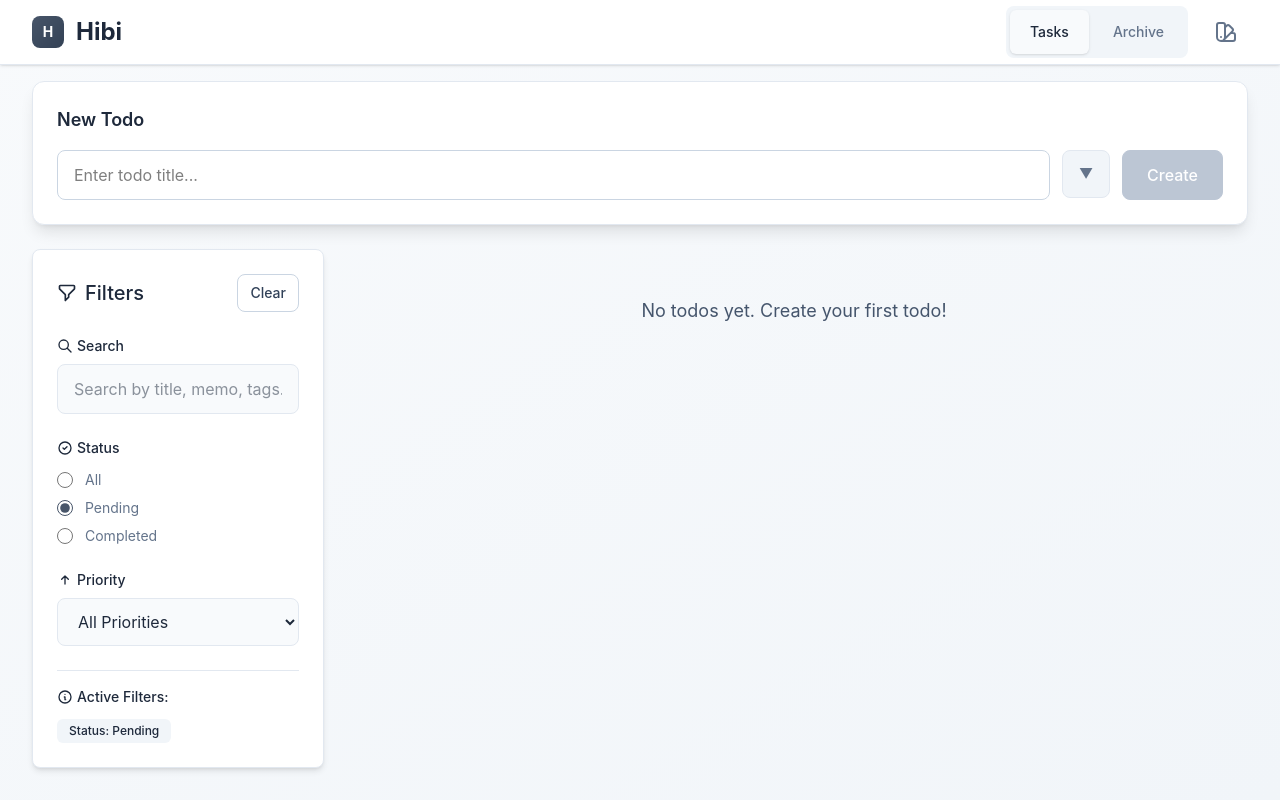
Test: フロントエンド統合テスト › エラーハンドリング › Todo作成エラーの処理
Expected: the text "No todos yet. Create your first todo!" is shown, [641,300,947,321]
Type "Test Todo" into the field labelled "New Todo" at (554, 175), box [57,150,1050,200]
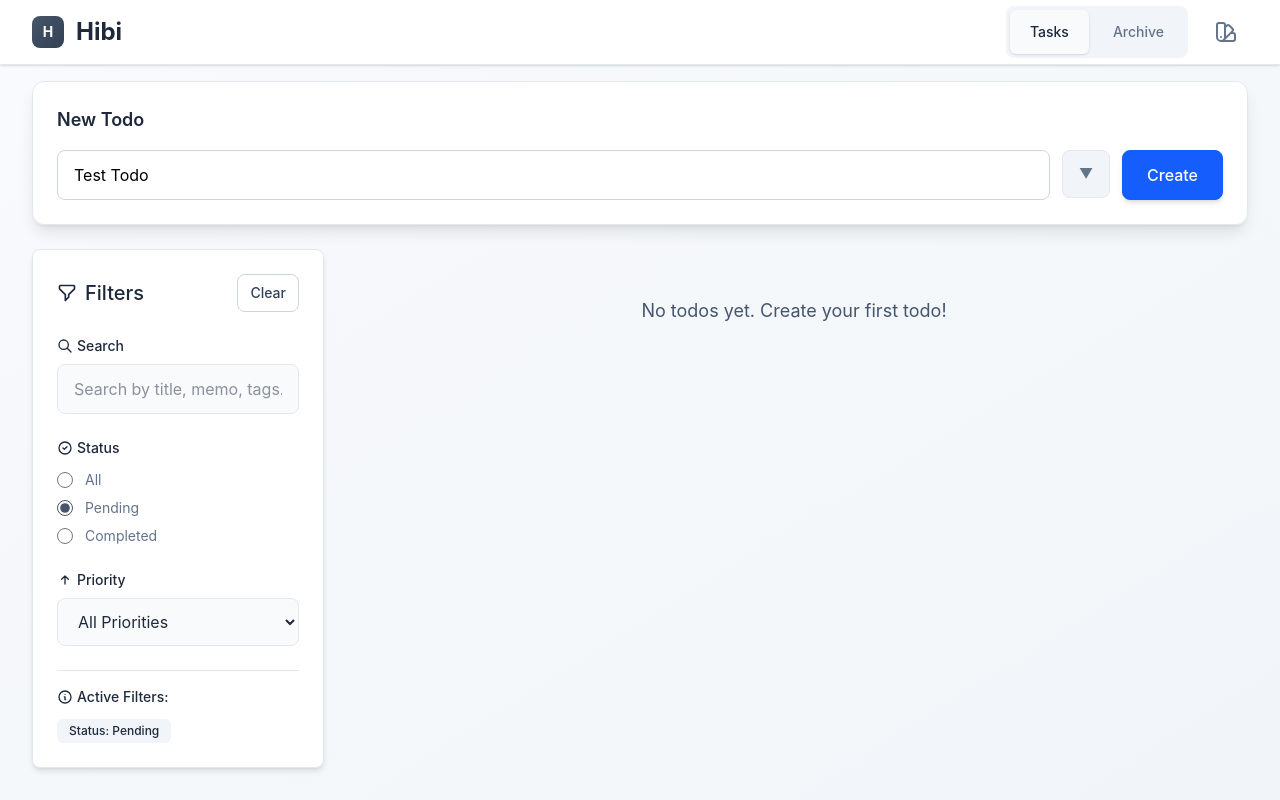
Click the button "Create" at (1172, 175), box [1122,150,1223,200]
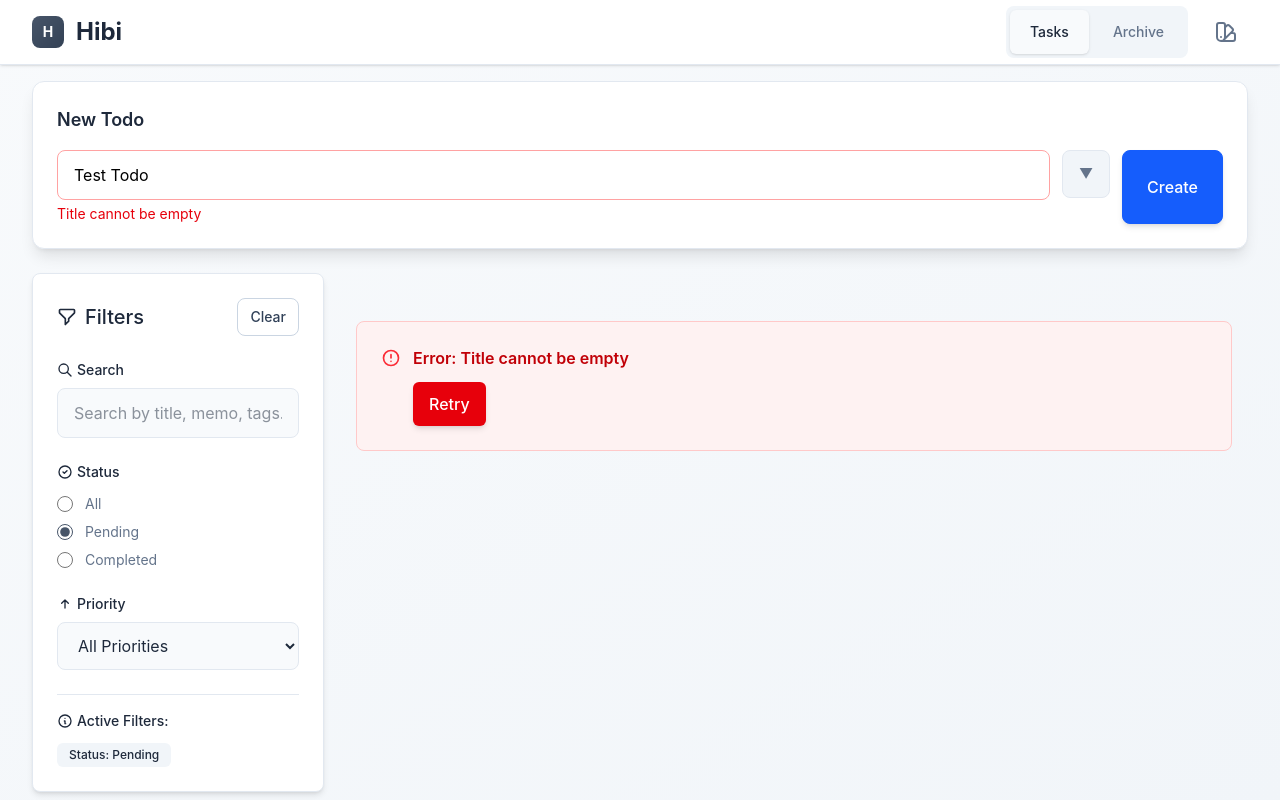
Now the text "Title cannot be empty" is shown, box [57,205,201,222]
